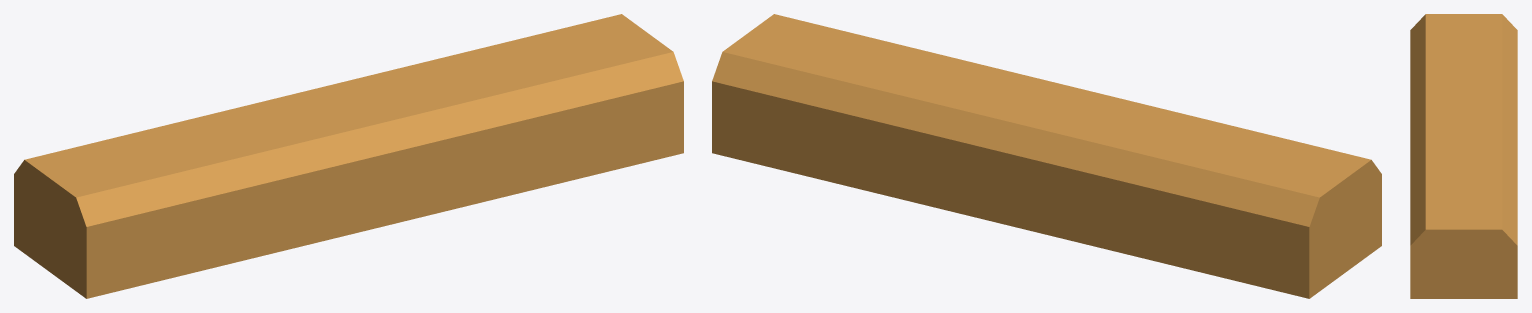
The model's file is rim_straight.glb.
3 views of the same model, side by side, from view 1: azimuth 30°, elevation 25°; view 2: azimuth 150°, elevation 25°; view 3: azimuth 270°, elevation 25° (orthographic). The views are drawn at different scales.
Bounding box in the file's own units: 2 × 0.3 × 0.42.
